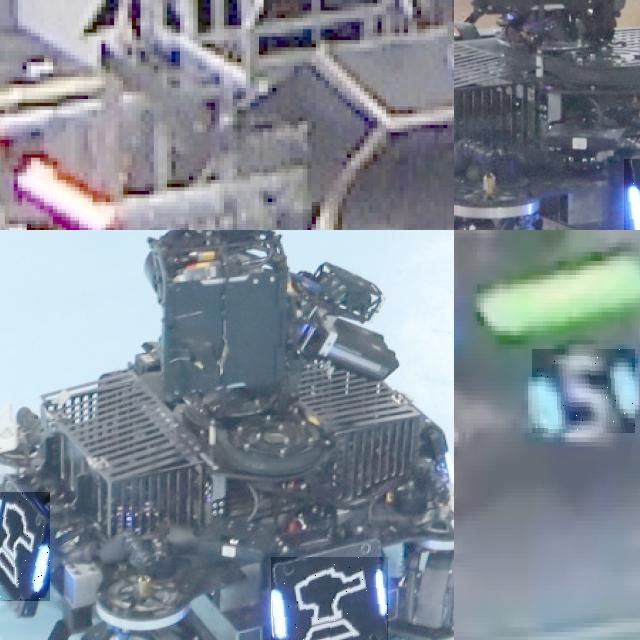B5: (532, 349, 635, 433)
Bs: (271, 557, 389, 640), (0, 492, 49, 601)
